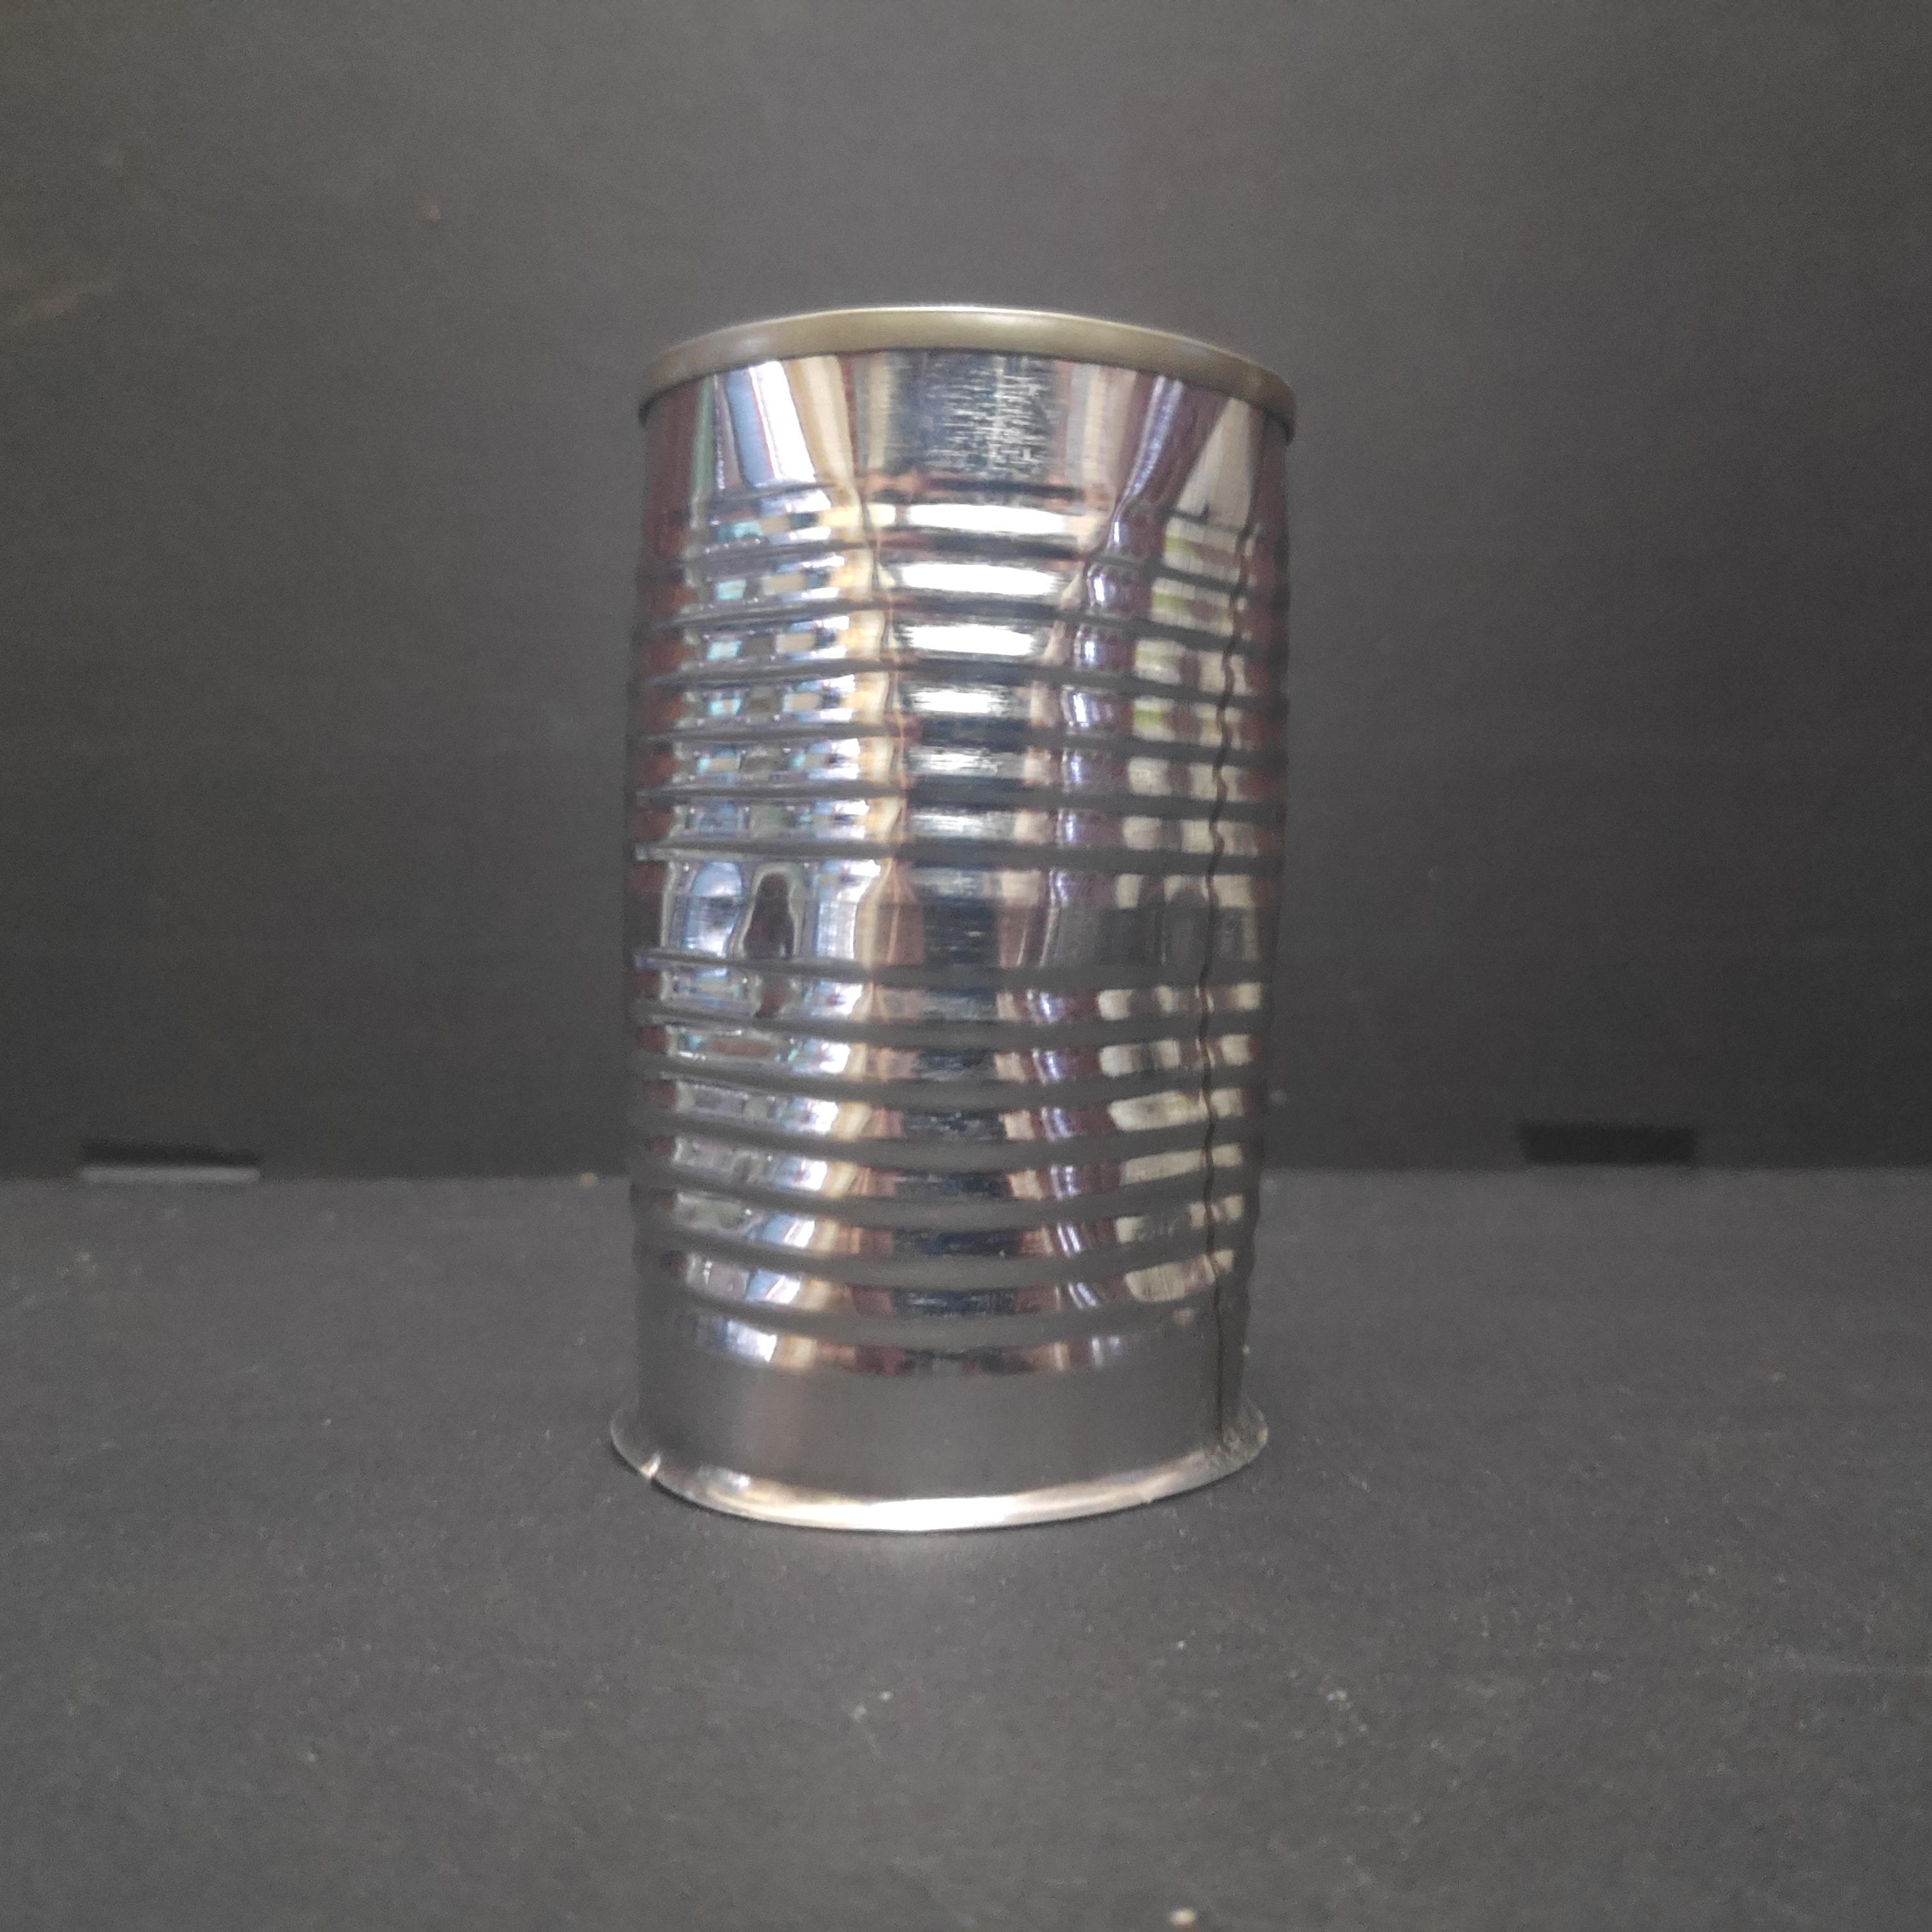Dented: (600, 281, 1306, 1530)
